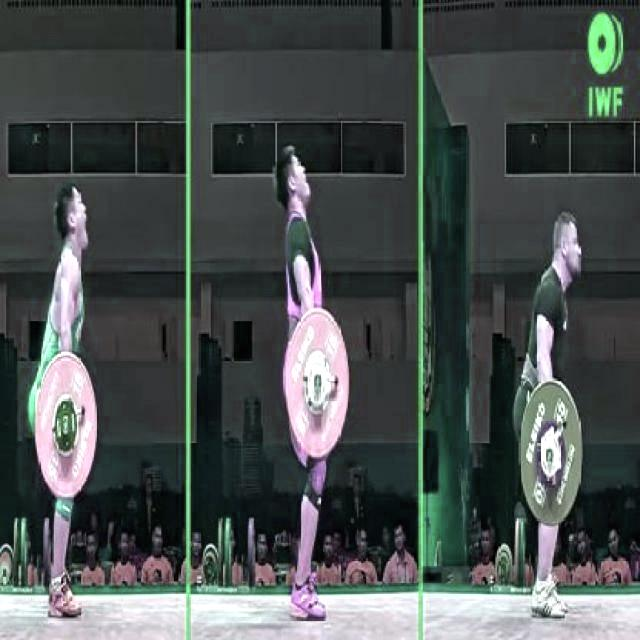barbell: (273, 286, 365, 465), (515, 375, 592, 535), (29, 349, 103, 504)
